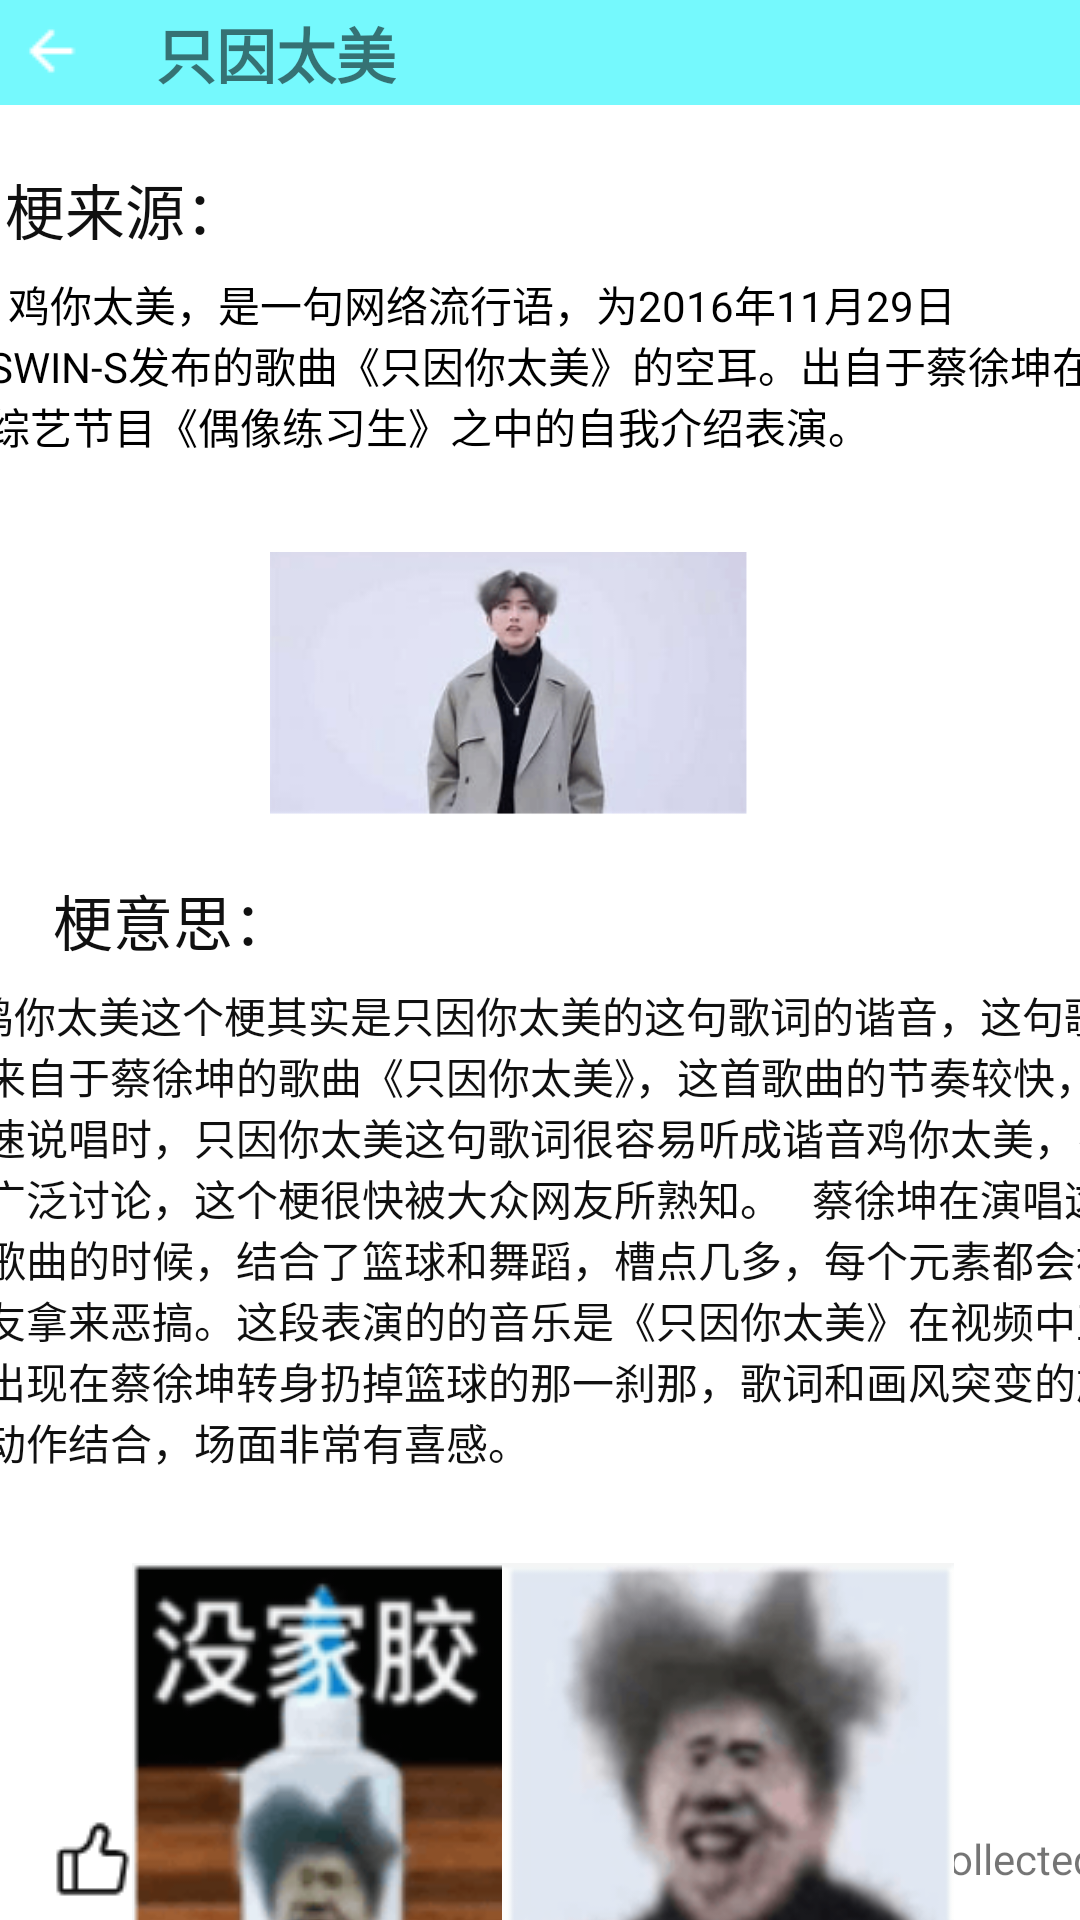

Where to tap for icons on this 1080 x 1920 app screen, as point (x, y):
goback: point (52, 51)
